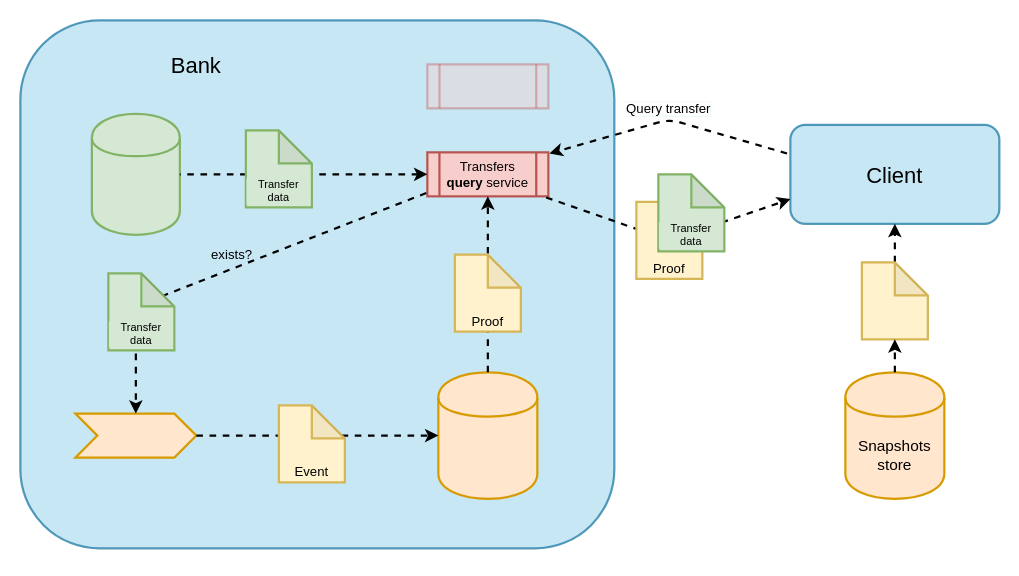
The diagram is 1019 pixels wide and 576 high, and some of its shapes have lost their labels. Each missing label, with the centre of its shape:
"Mapping function" belongs at pixel 135 435.
"QED Log" belongs at pixel 487 435.
"Snapshot" belongs at pixel 894 300.
"Transfers store" belongs at pixel 135 173.
"Transfers write service" belongs at pixel 487 86.
